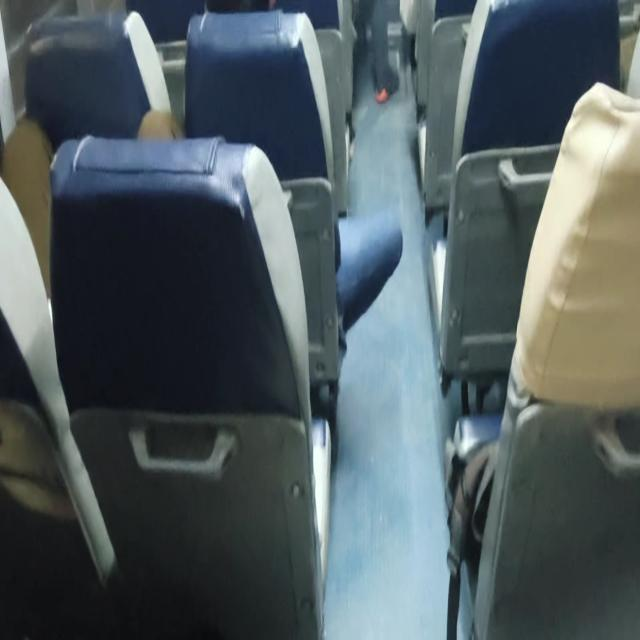person: (2, 2, 638, 636), (445, 77, 639, 637), (369, 0, 400, 104)
